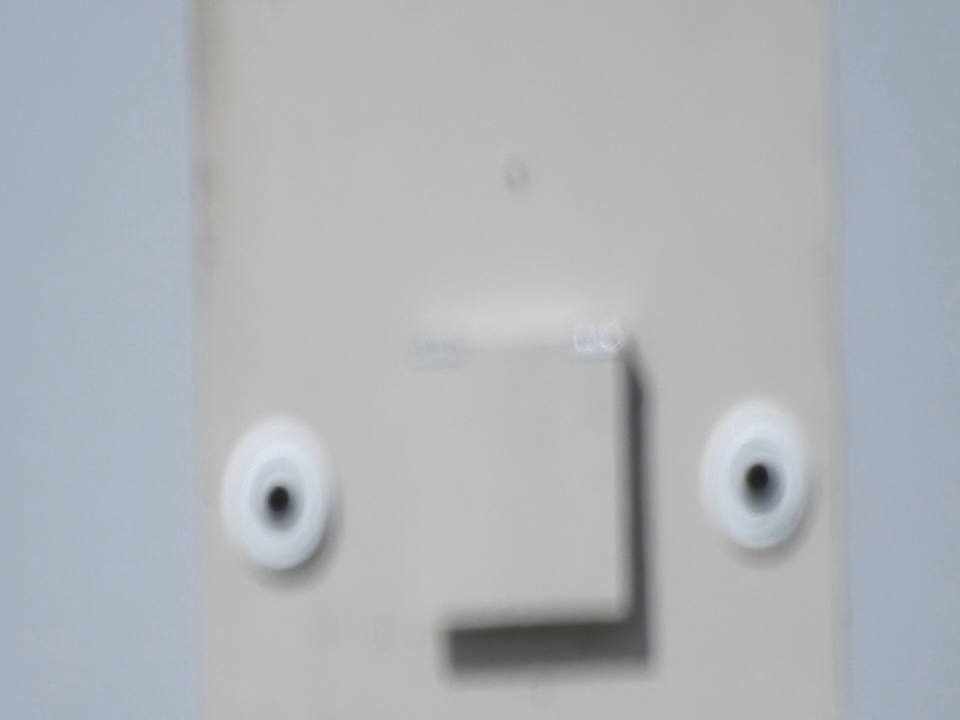facade: (222, 330, 814, 634)
